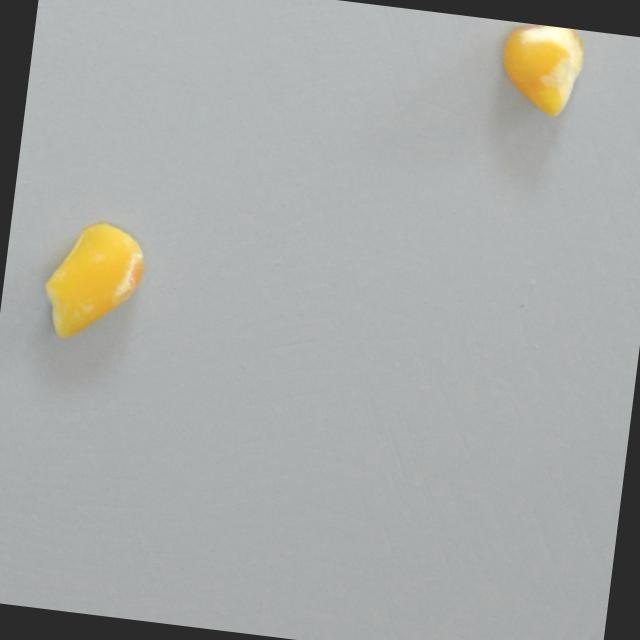estandar: (495, 20, 588, 122)
pelicula: (38, 214, 149, 350)
